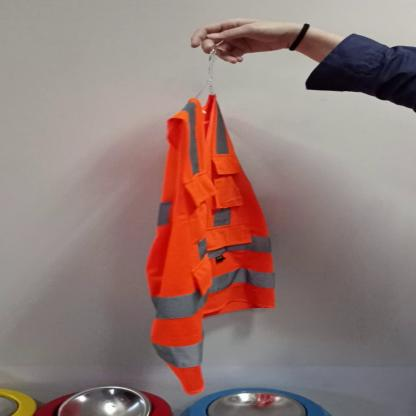colete: (139, 99, 278, 396)
